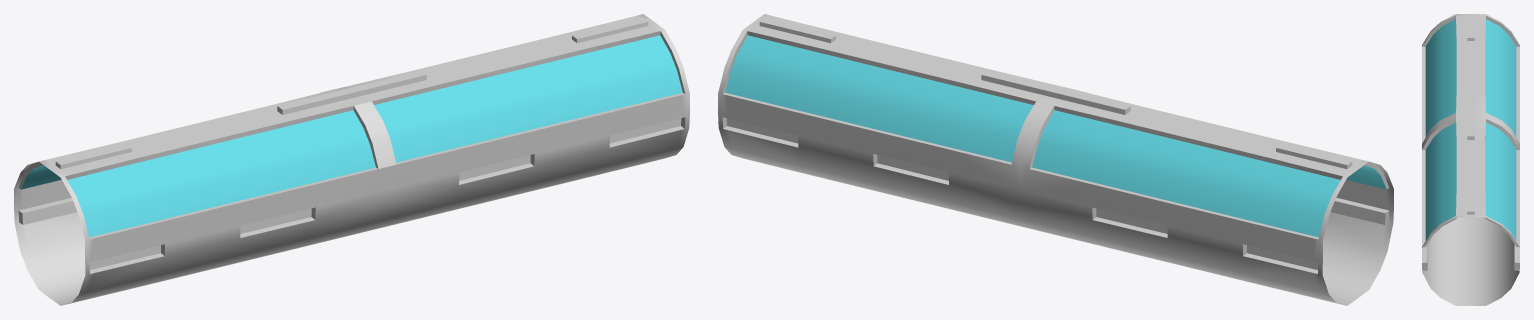
Rendered from Tunnel.fbx.
The picture shows the model from 3 angles, left to right: view 1: azimuth 30°, elevation 25°; view 2: azimuth 150°, elevation 25°; view 3: azimuth 270°, elevation 25°; orthographic projection. The views are drawn at different scales.
Parts seen in each view (by area): view 1: WallkingTunnel; view 2: WallkingTunnel; view 3: WallkingTunnel.
Part boxes in pixels (x1,y1,x2,y2): WallkingTunnel: [14, 14, 689, 305]; WallkingTunnel: [718, 14, 1393, 305]; WallkingTunnel: [1422, 14, 1519, 305].
Bounding box in the file's own units: 1063 × 225 × 216.
